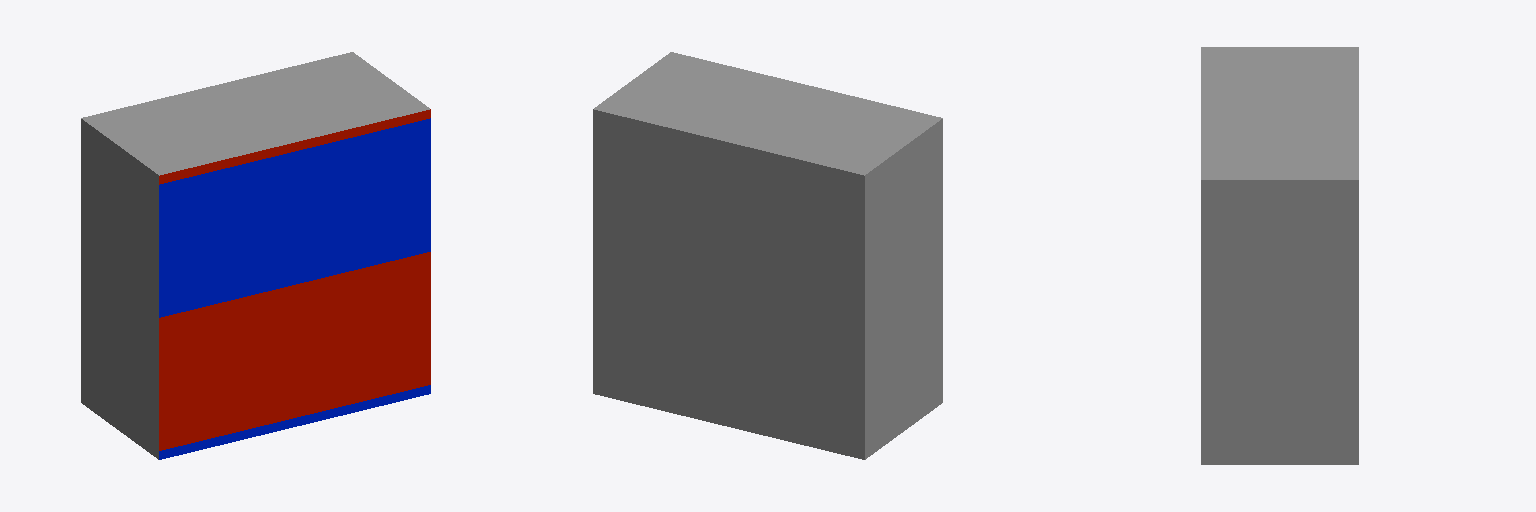
3 views of the same model, side by side, from view 1: azimuth 30°, elevation 25°; view 2: azimuth 150°, elevation 25°; view 3: azimuth 270°, elevation 25° (orthographic).
Parts seen in each view (by area): view 1: Cube; view 2: Cube; view 3: Cube.
Boxes of the visible parts, x1=… form: Cube: x1=81, y1=52, x2=430, y2=459; Cube: x1=593, y1=52, x2=942, y2=459; Cube: x1=1201, y1=47, x2=1358, y2=464.
Size of the model in its own units: 1 by 1 by 0.5.
Materials: 2 (1 with a texture image).